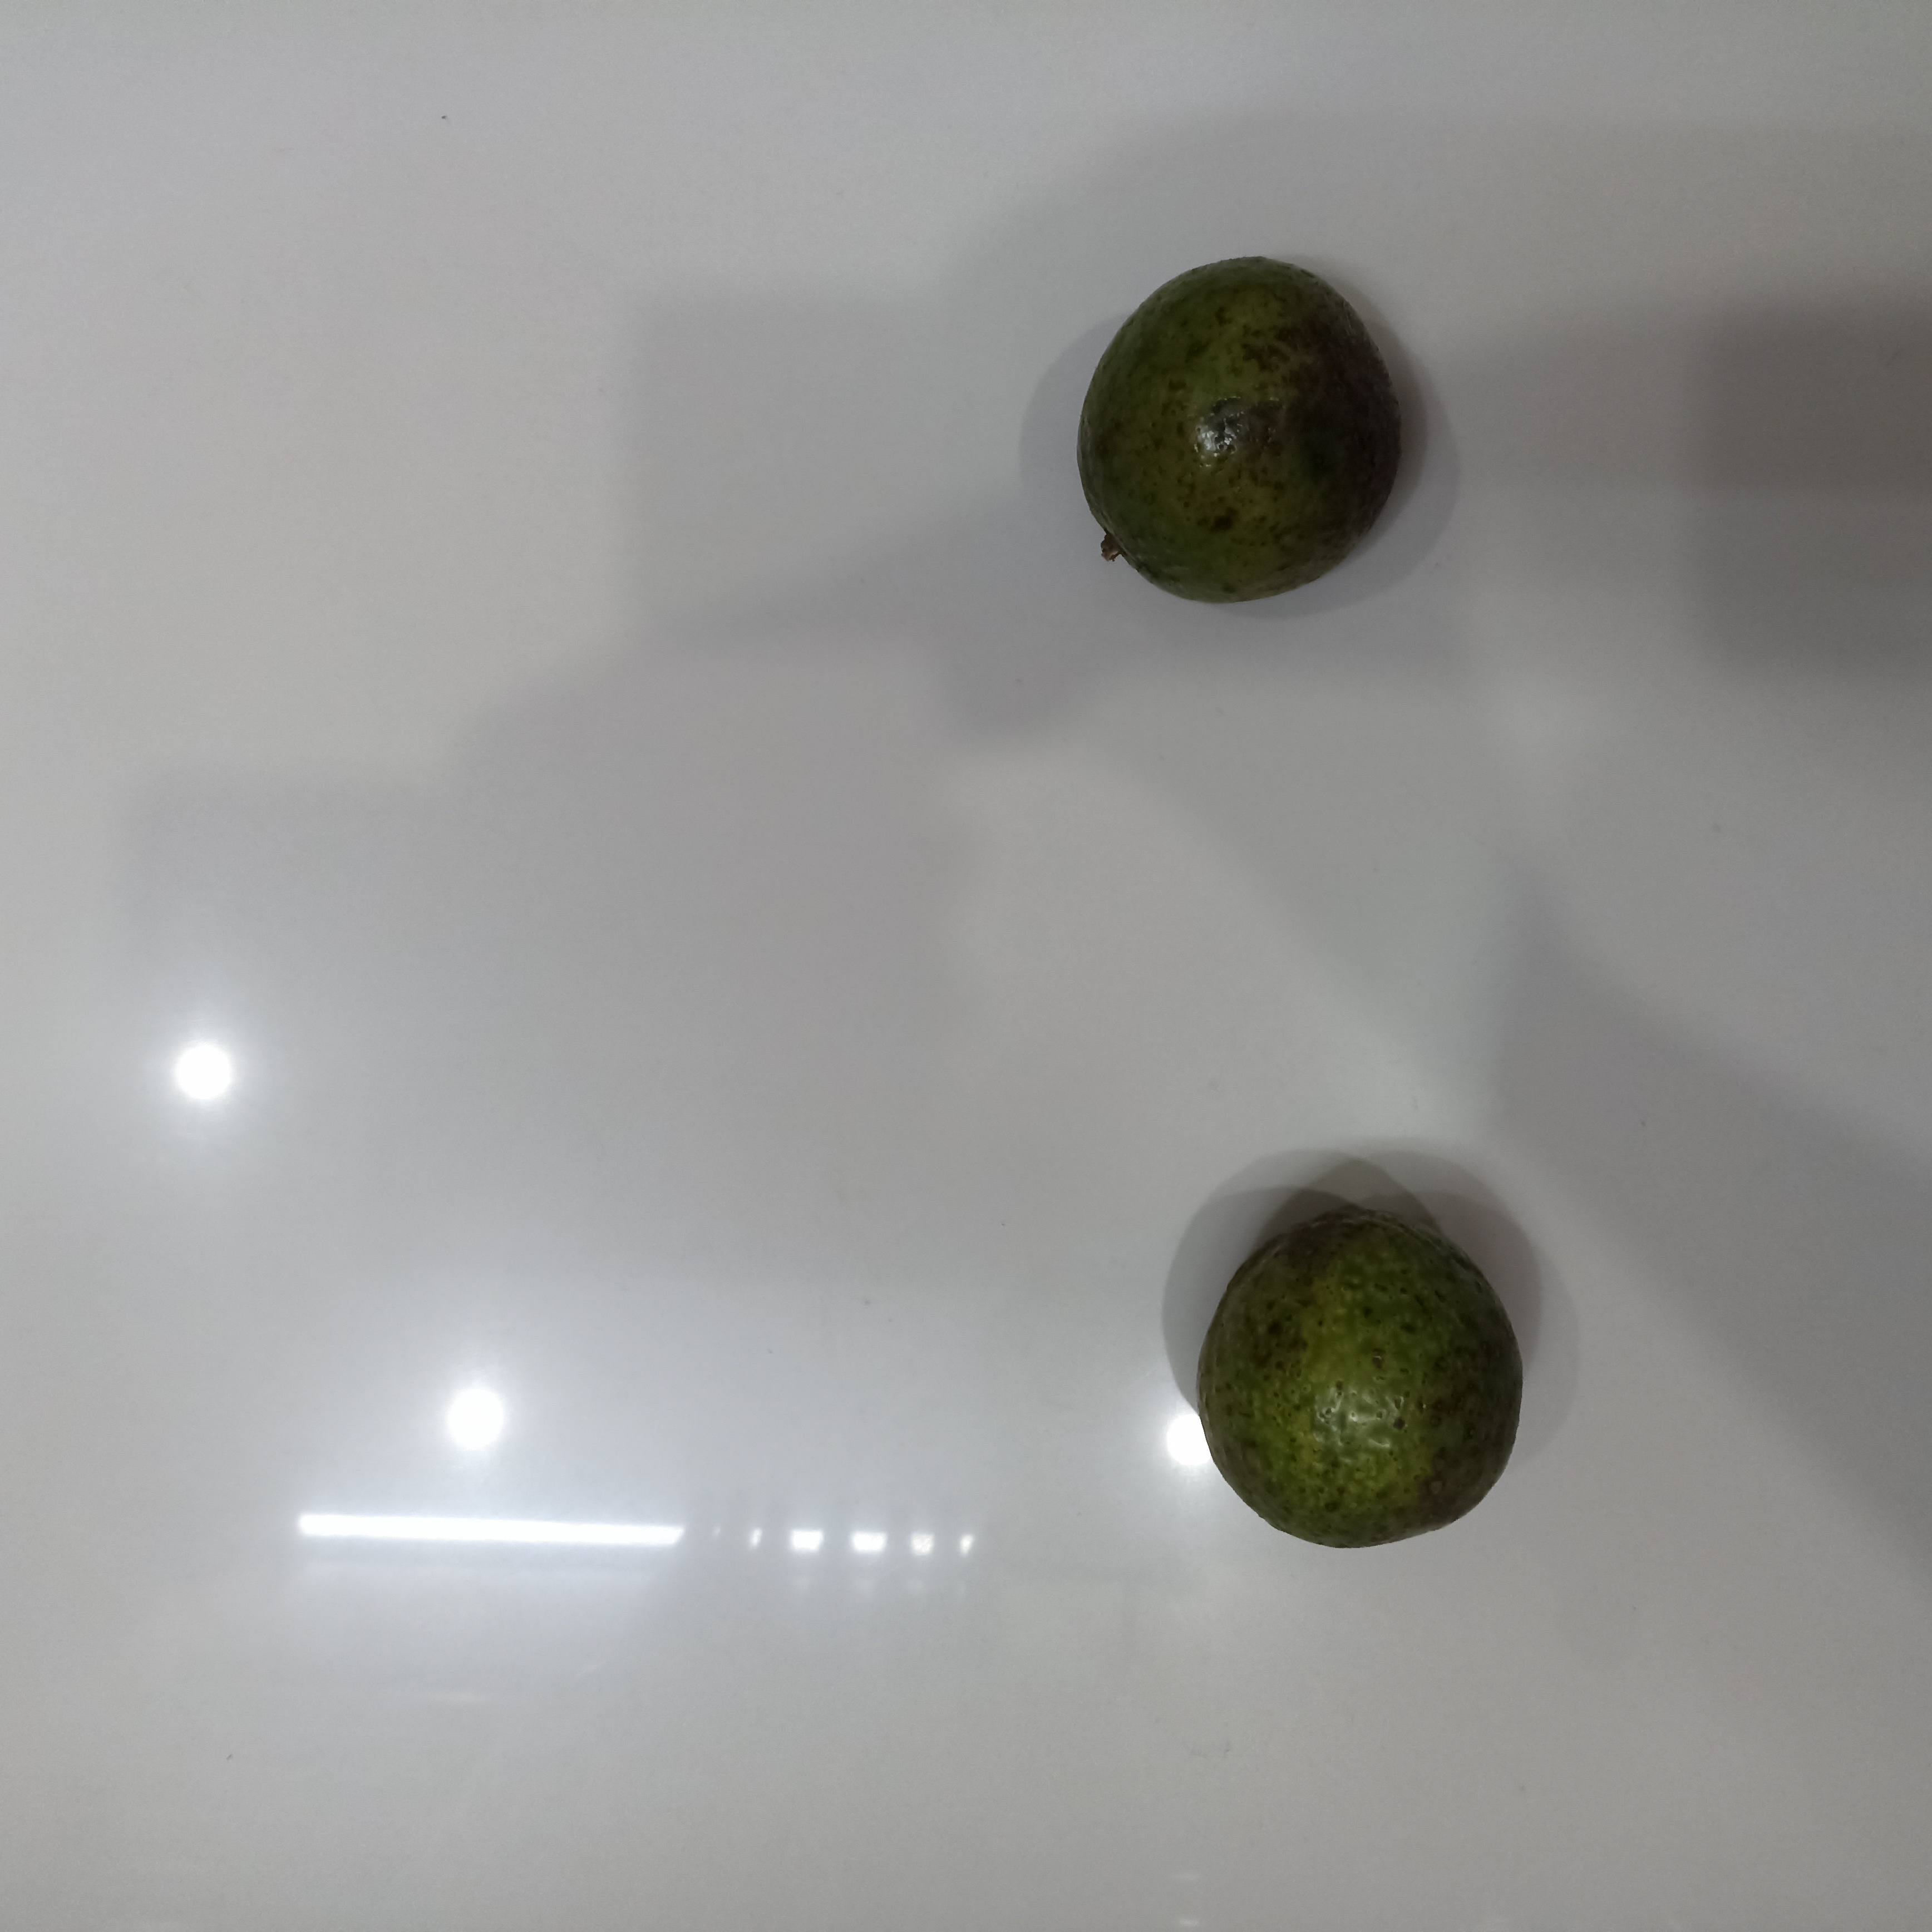Bo: (1189, 1201, 1532, 1555), (1070, 262, 1410, 609)
